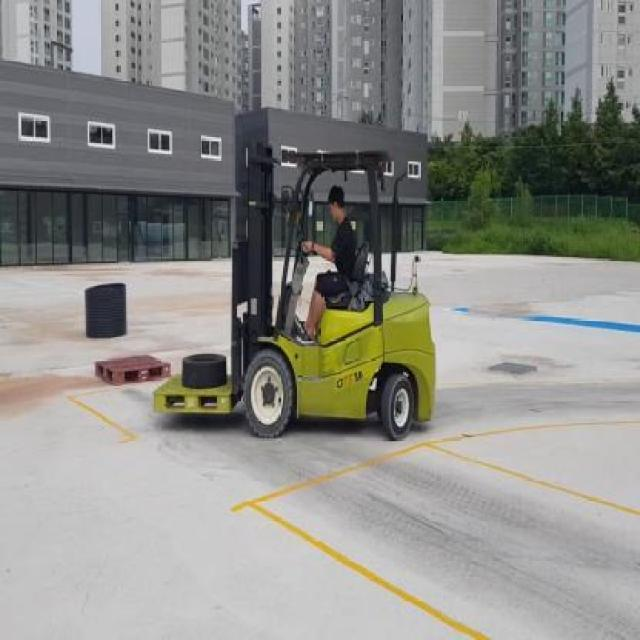forklift: (228, 146, 433, 440)
